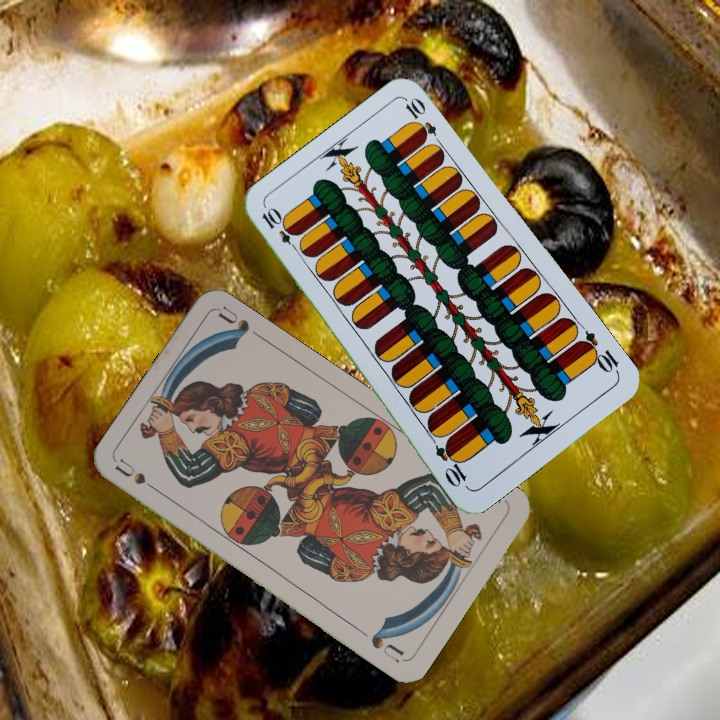E10: (573, 327, 622, 377), (257, 204, 304, 256)
SU: (111, 455, 166, 498)
